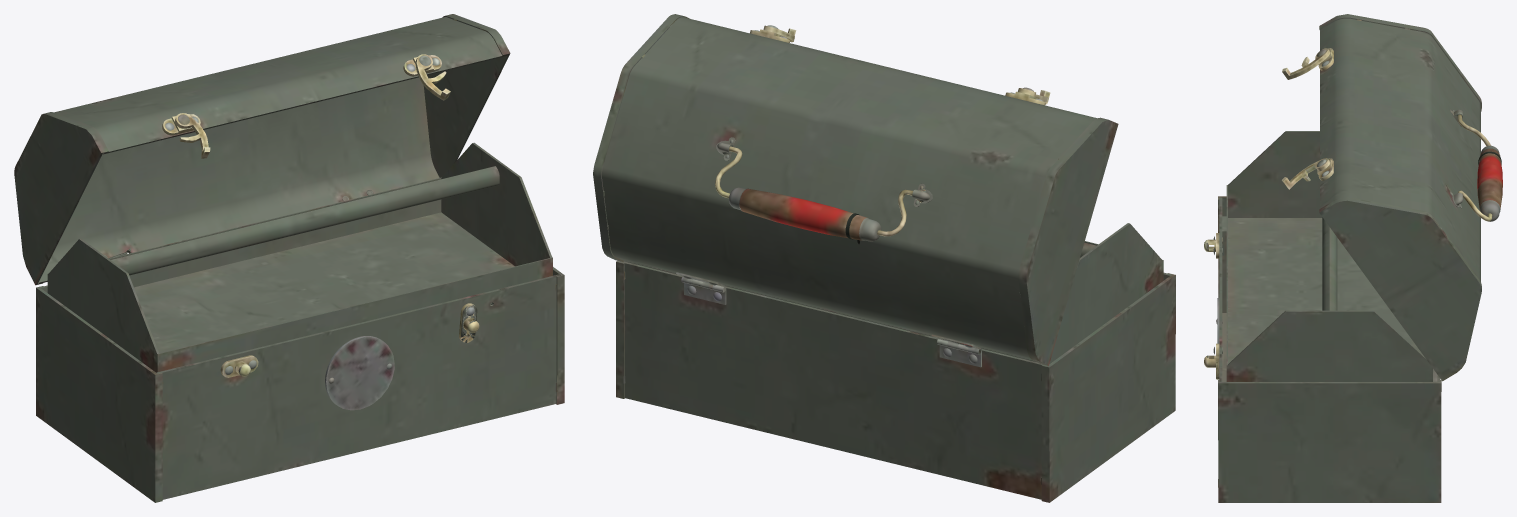
The model's file is metal_toolbox.glb.
3 renders of one model, left to right at view 1: azimuth 30°, elevation 25°; view 2: azimuth 150°, elevation 25°; view 3: azimuth 270°, elevation 25°, orthographic. The views are drawn at different scales.
Visible parts, largest first — view 1: metal_toolbox, metal_toolbox_handle; view 2: metal_toolbox, metal_toolbox_handle; view 3: metal_toolbox, metal_toolbox_handle.
Part boxes in pixels (<box>): metal_toolbox: <box>14,14,564,502</box>; metal_toolbox_handle: <box>175,54,450,158</box>; metal_toolbox: <box>593,14,1175,502</box>; metal_toolbox_handle: <box>715,25,1050,244</box>; metal_toolbox: <box>1204,14,1481,502</box>; metal_toolbox_handle: <box>1282,48,1502,221</box>.
Bounding box in the file's own units: 0.4 × 0.3047 × 0.2705.
Materials: 1 (1 with a texture image).
